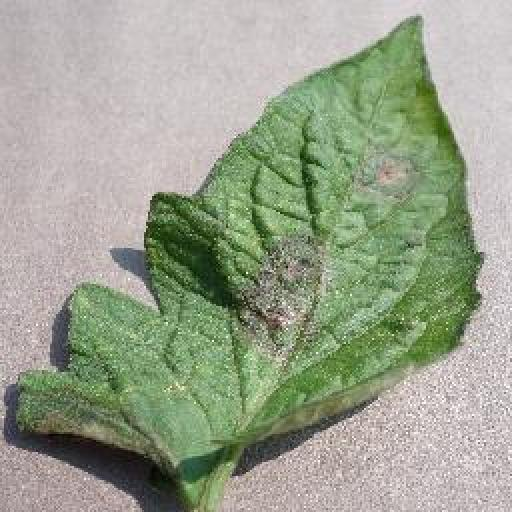Late Blight: (18, 9, 486, 479)
